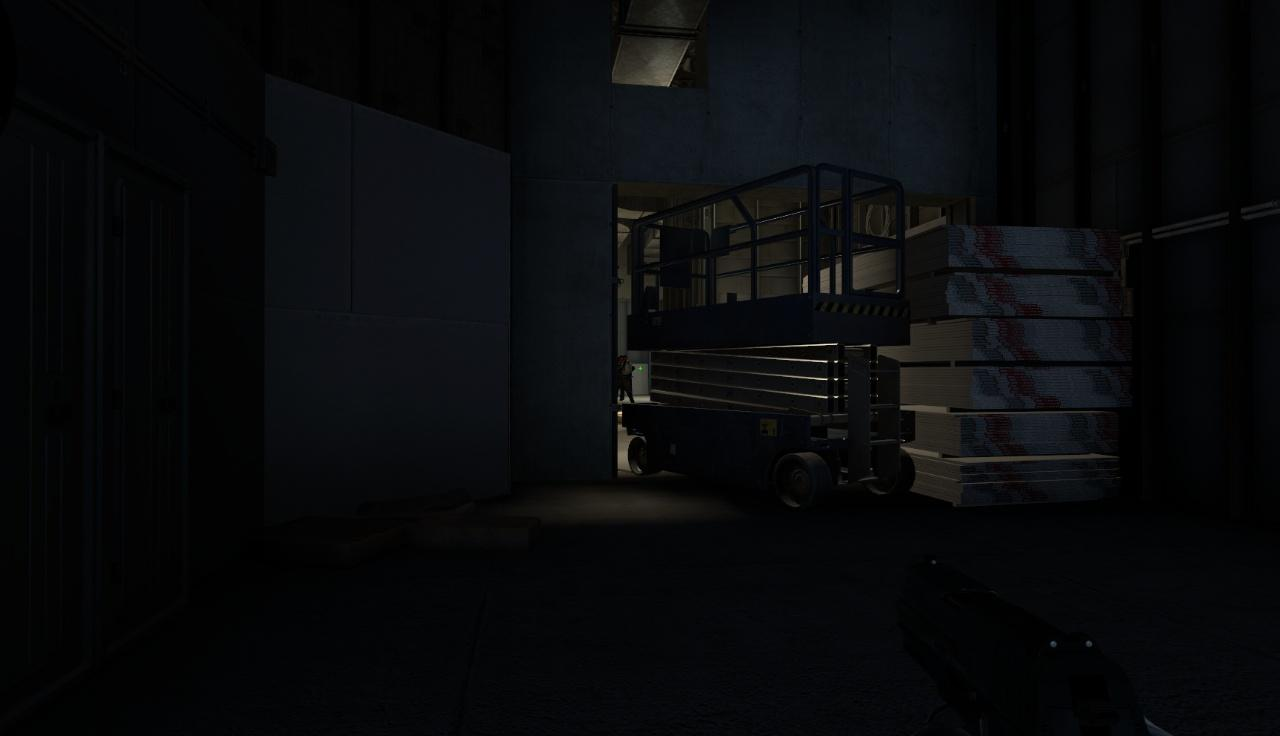tt: (618, 355, 633, 402)
